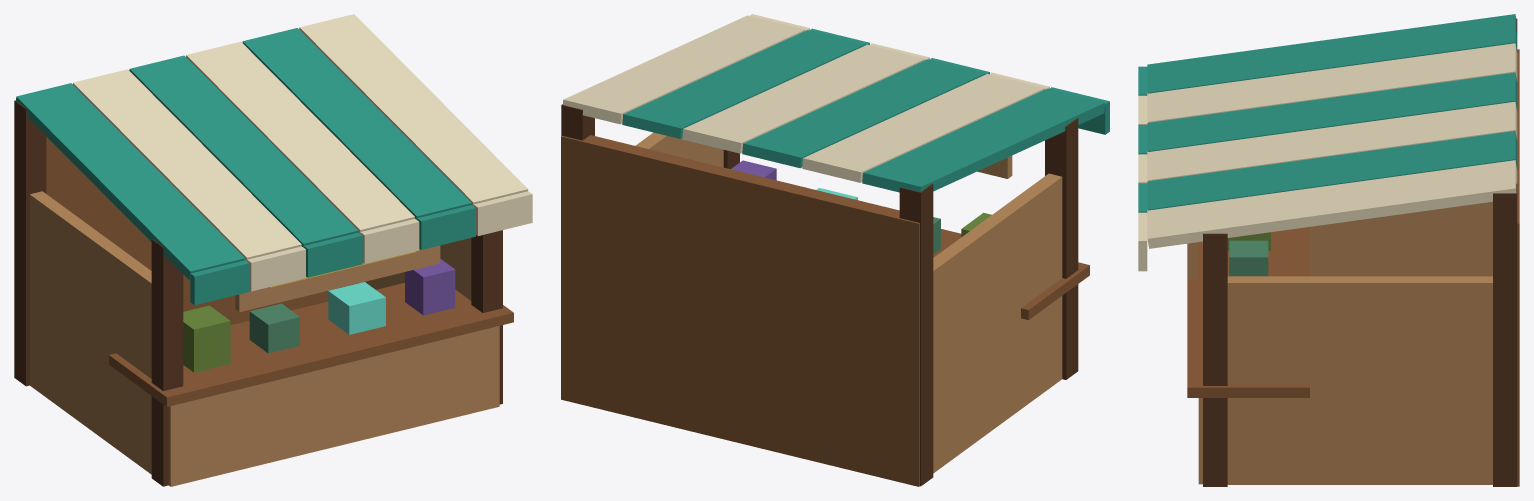
Rendered from bld_shop_herbs.glb.
The picture shows the model from 3 angles, left to right: view 1: azimuth 30°, elevation 25°; view 2: azimuth 150°, elevation 25°; view 3: azimuth 270°, elevation 25°; orthographic projection. The views are drawn at different scales.
Visible parts, largest first — view 1: bld_shop_herbs; view 2: bld_shop_herbs; view 3: bld_shop_herbs.
Boxes of the visible parts, x1=… form: bld_shop_herbs: x1=14, y1=14, x2=532, y2=486; bld_shop_herbs: x1=561, y1=14, x2=1109, y2=486; bld_shop_herbs: x1=1138, y1=14, x2=1519, y2=486.
Size of the model in its own units: 3.8 by 2.95 by 3.42.
Materials: 1 (1 with a texture image).
